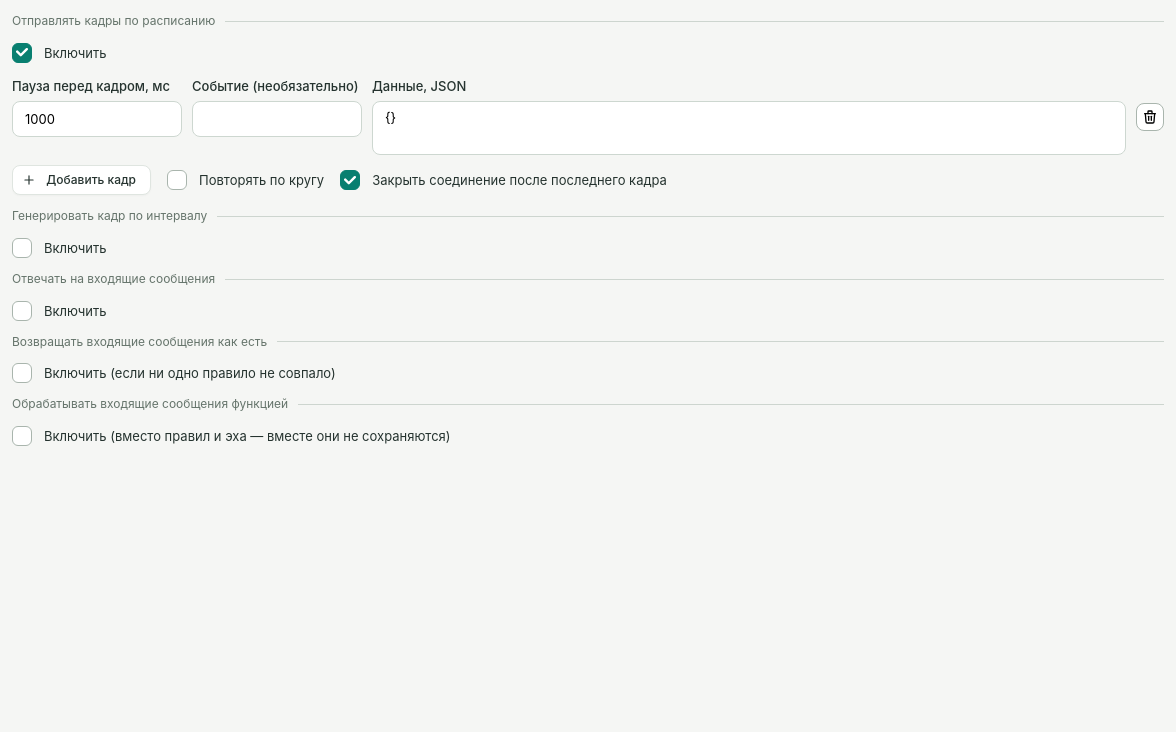
Test: StreamEditor › adds and removes a frame, and adds a reply rule with a condition row for ws
Click the button with test id "t-frame-add": [82, 180] box [12,165,151,195]
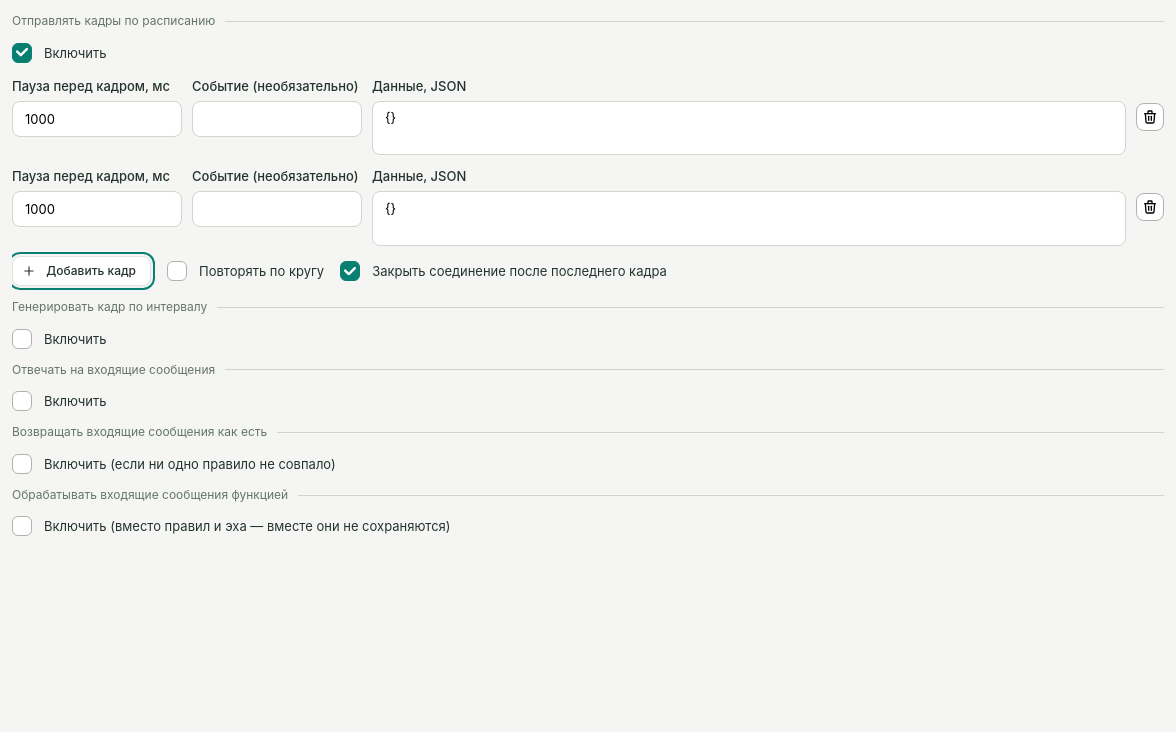
Expected: the field with test id "t-frame-delay-1" is shown, [12,192,182,228]
Click the button with test id "t-frame-remove-0": [1150, 117] box [1136,103,1164,131]
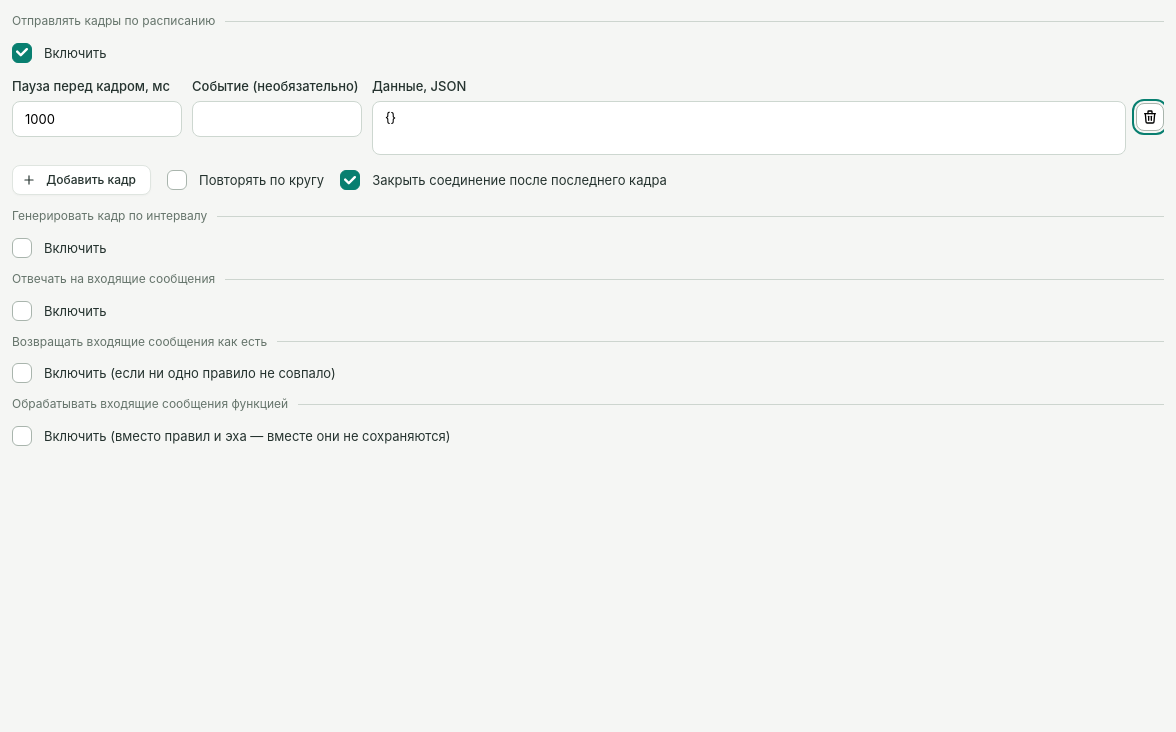
Expected: the field with test id "t-frame-delay-1" is gone
Click the checkbox with test id "t-replies-on": [22, 310] box [12,300,32,320]
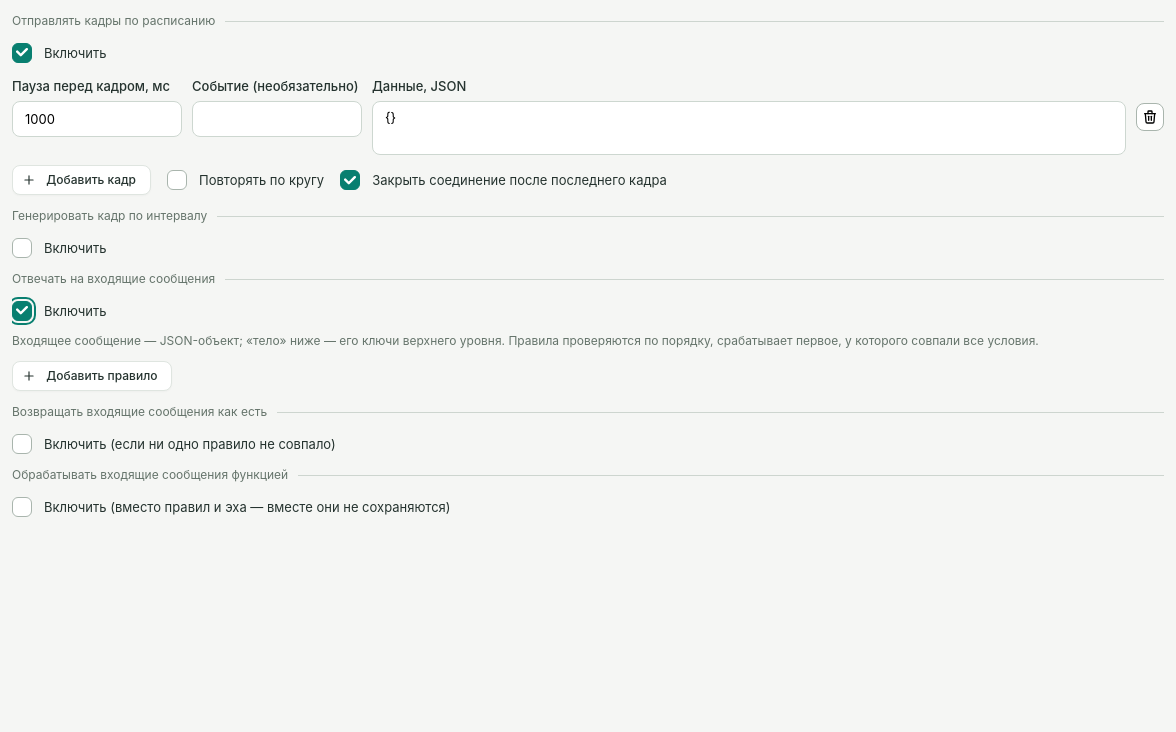
Click the button with test id "t-rule-add": [92, 376] box [12,361,172,391]
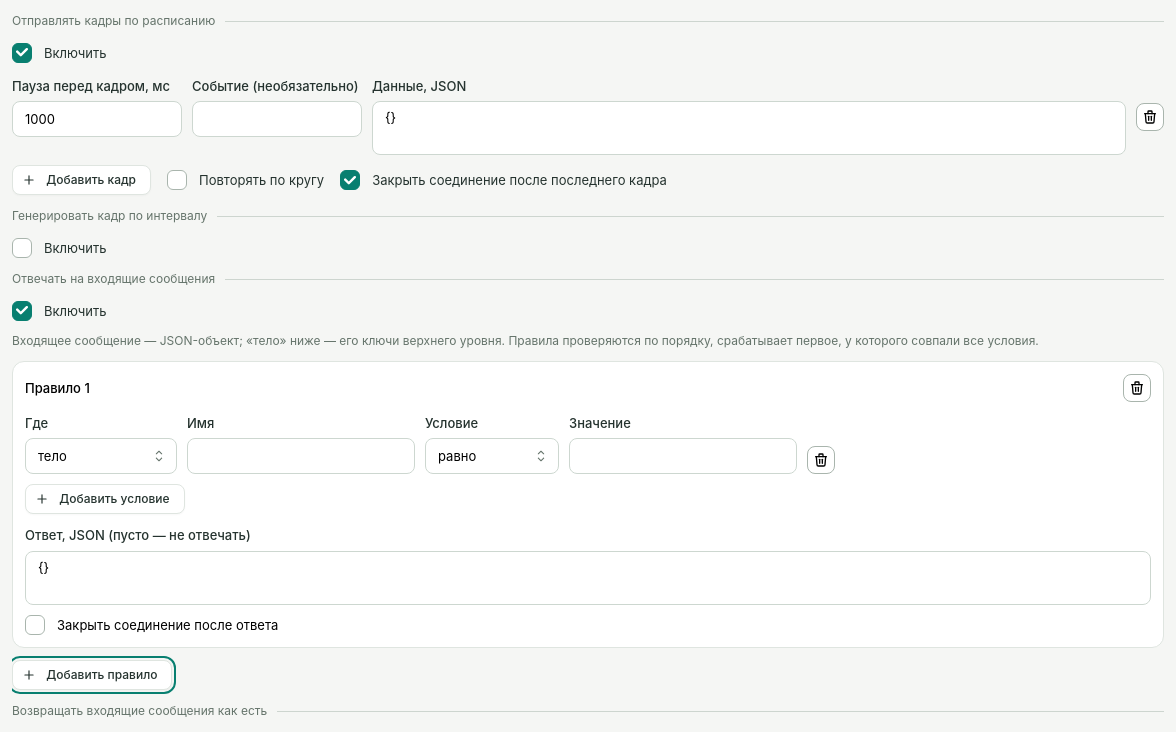
Expected: the field with test id "t-rule-when-name-0-0" is shown, [187,438,415,474]
Click the button with test id "t-rule-when-add-0": [105, 500] box [25,484,185,514]
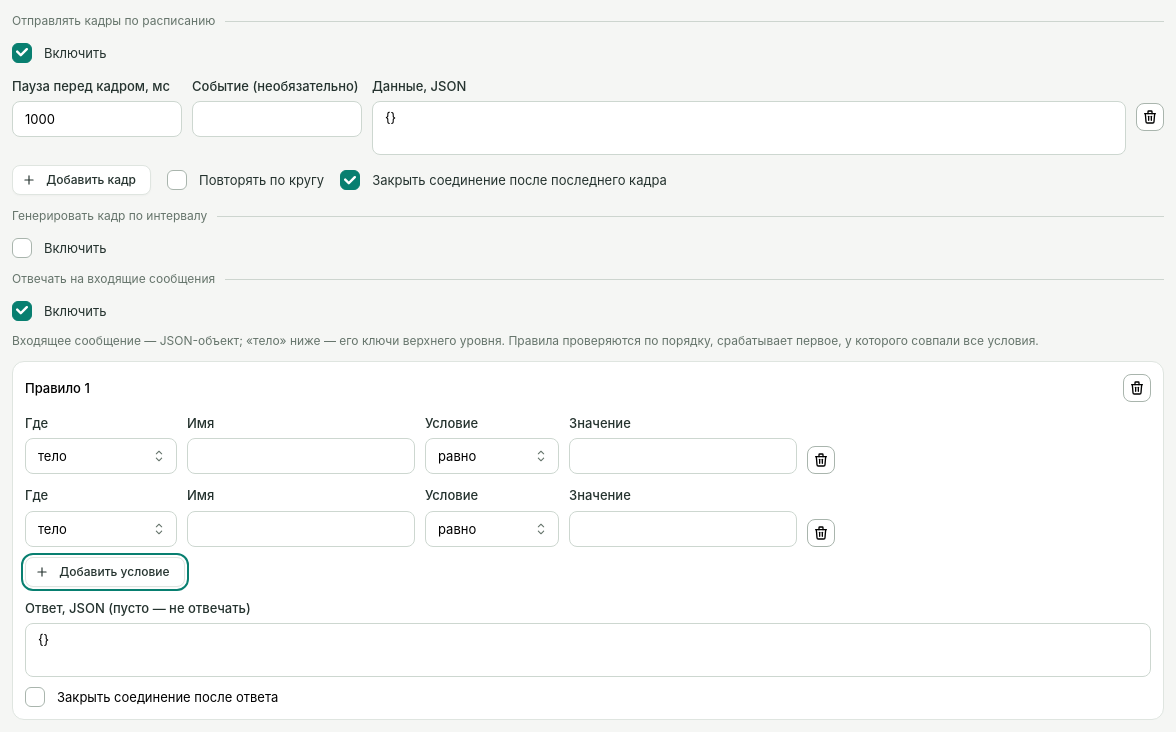
Expected: the field with test id "t-rule-when-name-0-1" is shown, [187,511,415,547]
